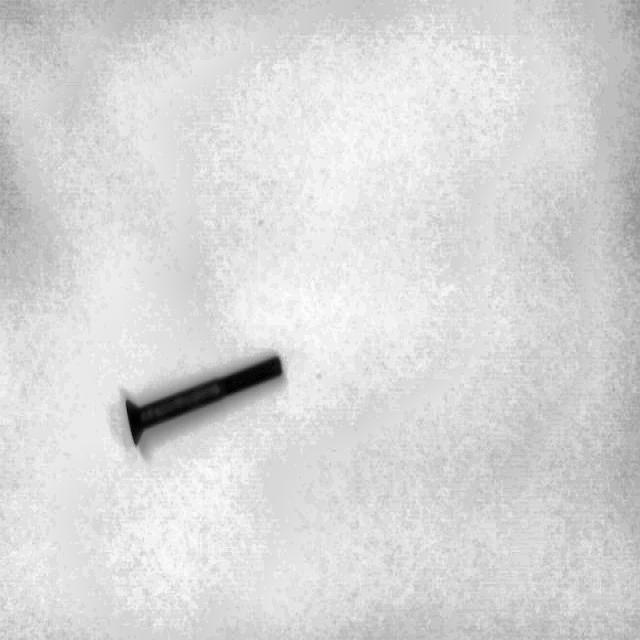Flat head socket screw: (122, 351, 285, 448)
